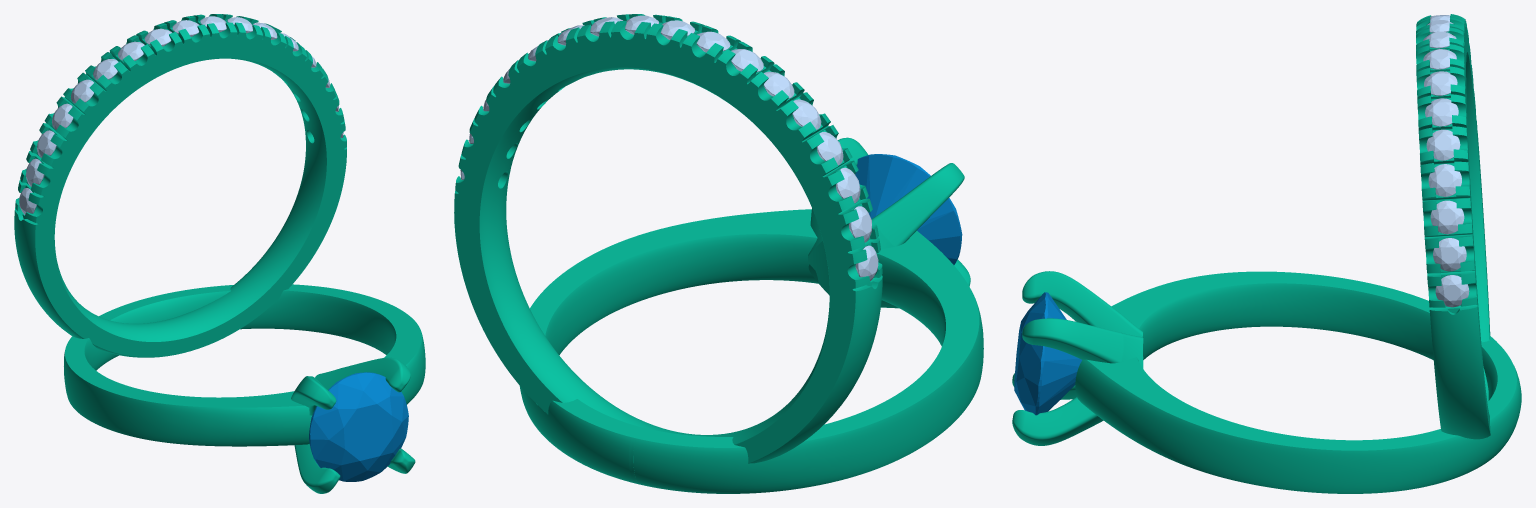
3 renders of one model, left to right at view 1: azimuth 30°, elevation 25°; view 2: azimuth 150°, elevation 25°; view 3: azimuth 270°, elevation 25°, orthographic. The views are drawn at different scales.
Visible parts, largest first — view 1: LR1012(base).3dm, Diamond_Round, Head Prong (×3); view 2: LR1012(base).3dm, Diamond_Round (×4), Head Prong (×2); view 3: LR1012(base).3dm, Diamond_Round (×8), Head Prong (×3).
Part boxes in pixels (<box>): LR1012(base).3dm: <box>14,14,425,446</box>; Diamond_Round: <box>309,372,408,481</box>; Head Prong (×3): <box>291,357,410,493</box>; LR1012(base).3dm: <box>454,14,983,493</box>; Diamond_Round (×4): <box>792,99,962,264</box>; Head Prong (×2): <box>808,137,964,282</box>; LR1012(base).3dm: <box>1075,14,1521,493</box>; Diamond_Round (×8): <box>1014,71,1469,415</box>; Head Prong (×3): <box>1012,271,1143,445</box>.
Size of the model in its own units: 2.17 by 2.17 by 2.56.
